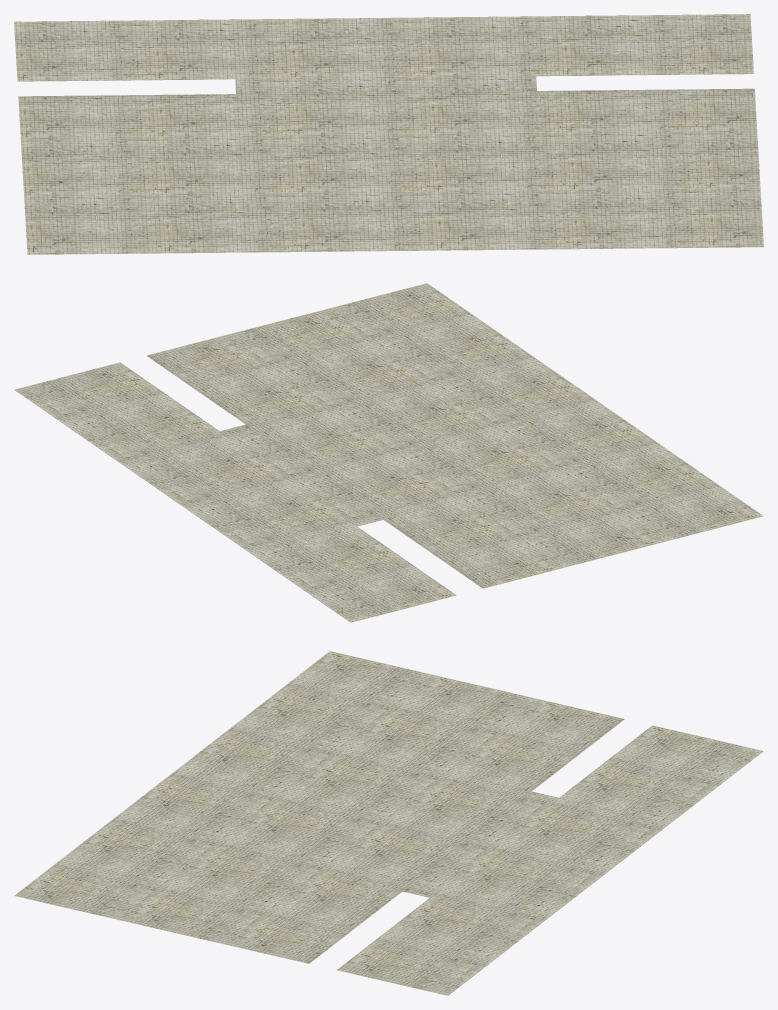
File: tile.obj
The picture shows the model from 3 angles, top to bottom: view 1: azimuth 30°, elevation 25°; view 2: azimuth 150°, elevation 25°; view 3: azimuth 270°, elevation 25°; orthographic projection. The views are drawn at different scales.
Visible parts, largest first — view 1: tile_Plane.003; view 2: tile_Plane.003; view 3: tile_Plane.003.
Part boxes in pixels (left/top/right/bottom): tile_Plane.003: left=14, top=14, right=763, bottom=254; tile_Plane.003: left=14, top=283, right=763, bottom=622; tile_Plane.003: left=14, top=651, right=763, bottom=995.
Size of the model in its own units: 11.72 by 0 by 10.77.
1 material, 1 textured.
